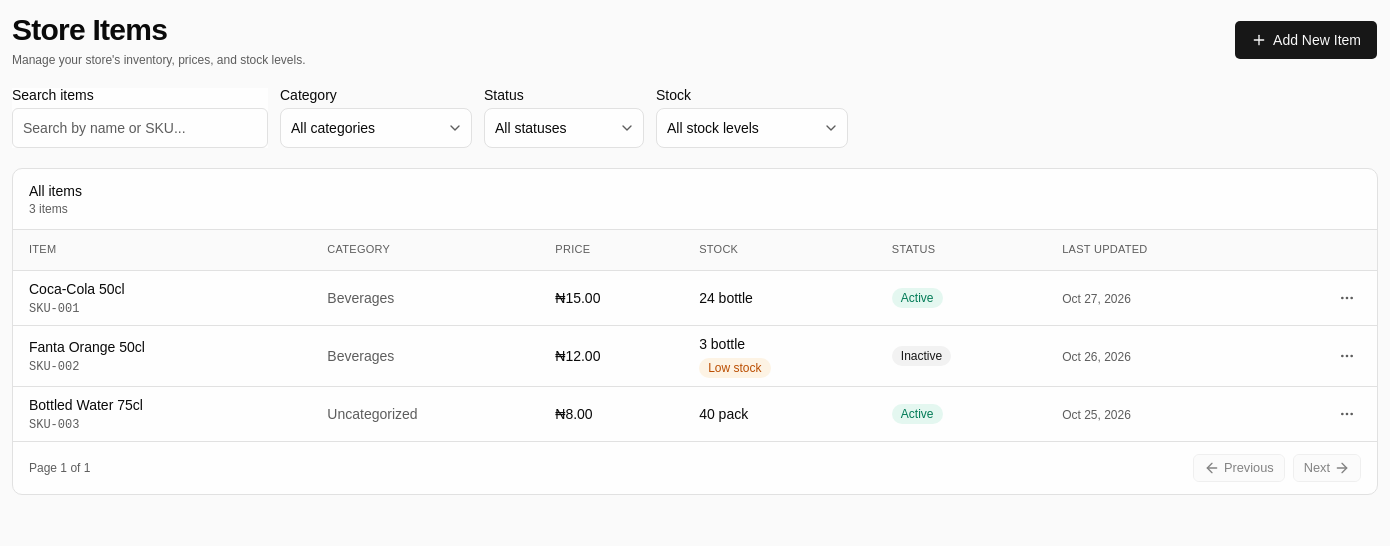
Test: item actions per role › manager can edit and change price but cannot deactivate
Expected: the text "Coca-Cola 50cl" is shown, [29, 280, 125, 296]
Expected: the button "Add New Item" is shown, [1234, 20, 1378, 60]
Click the button named "Actions for item Coca-Cola 50cl" at (1347, 298), box [1333, 284, 1361, 312]
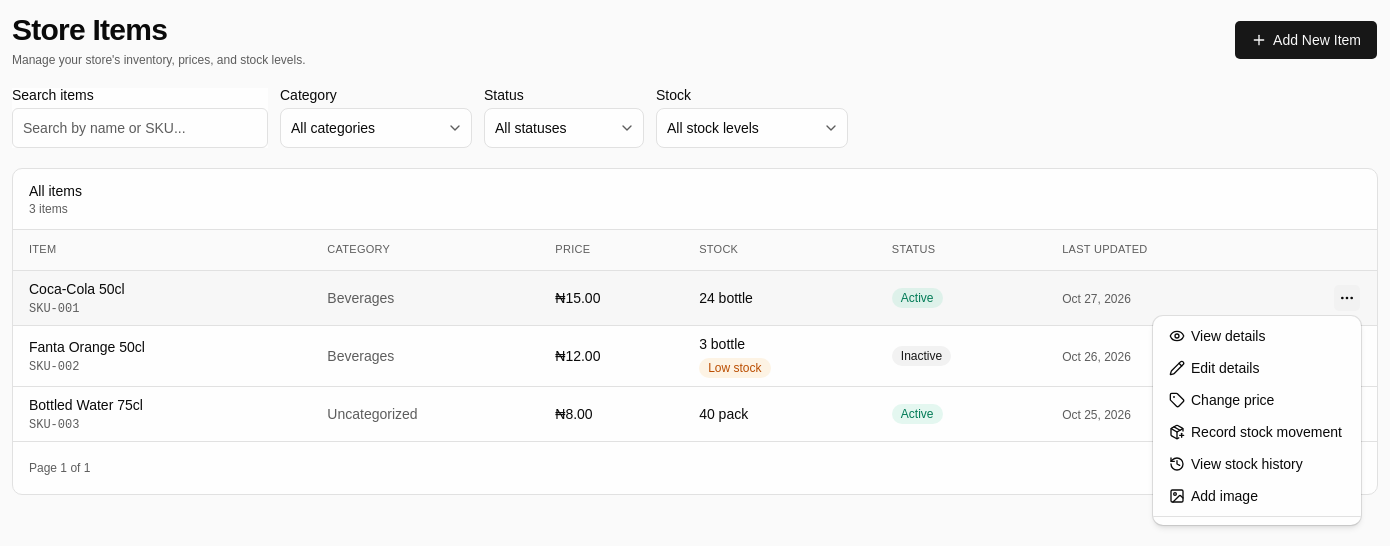
Expected: the menu item "Edit details" is shown, [1169, 360, 1260, 376]
Expected: the menu item "Change price" is shown, [1169, 392, 1274, 408]
